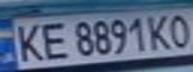1: (127, 15, 151, 53)
8: (69, 18, 93, 57), (90, 17, 112, 56)
9: (109, 16, 130, 54)
E: (33, 19, 72, 61)
K: (6, 20, 51, 64), (145, 11, 175, 51)
O: (163, 10, 193, 48)
